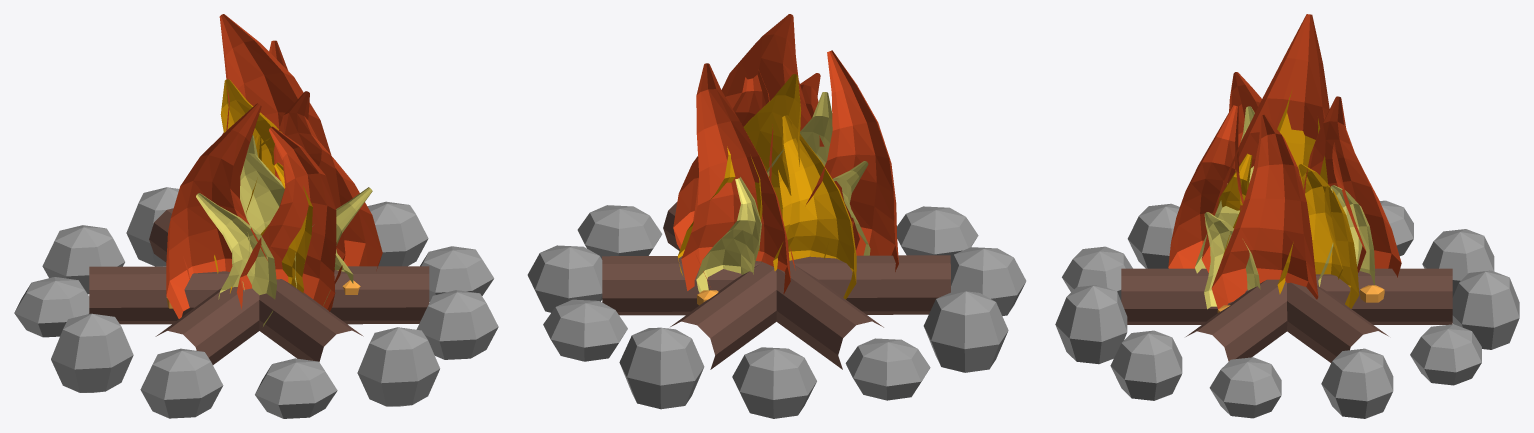
Rendered from eld.glb.
The picture shows the model from 3 angles, left to right: view 1: azimuth 30°, elevation 25°; view 2: azimuth 150°, elevation 25°; view 3: azimuth 270°, elevation 25°; orthographic projection. The views are drawn at different scales.
Visible parts, largest first — view 1: eld; view 2: eld; view 3: eld.
Part boxes in pixels (box(x1,y1,x2,y2)): eld: box(14, 14, 498, 418); eld: box(527, 14, 1026, 418); eld: box(1055, 14, 1519, 418).
Size of the model in its own units: 1.01 by 0.7426 by 0.9805.
